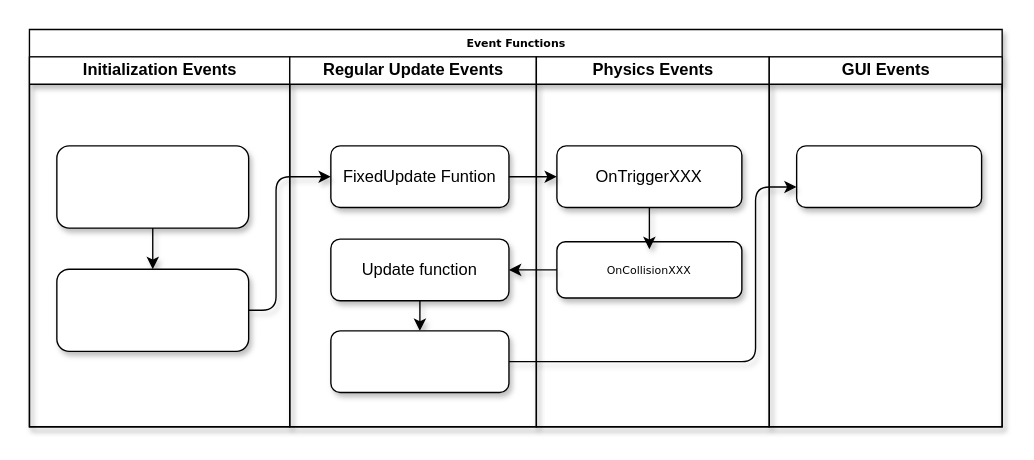
Some shapes in this 1034 by 460 pixel diagram are drawn without their labels. Each missing label, with the centre of its shape:
"Awake function" belongs at point (153, 188).
"LateUpdate function" belongs at point (420, 363).
"OnGUI function" belongs at point (890, 178).
"Start function" belongs at point (153, 311).
